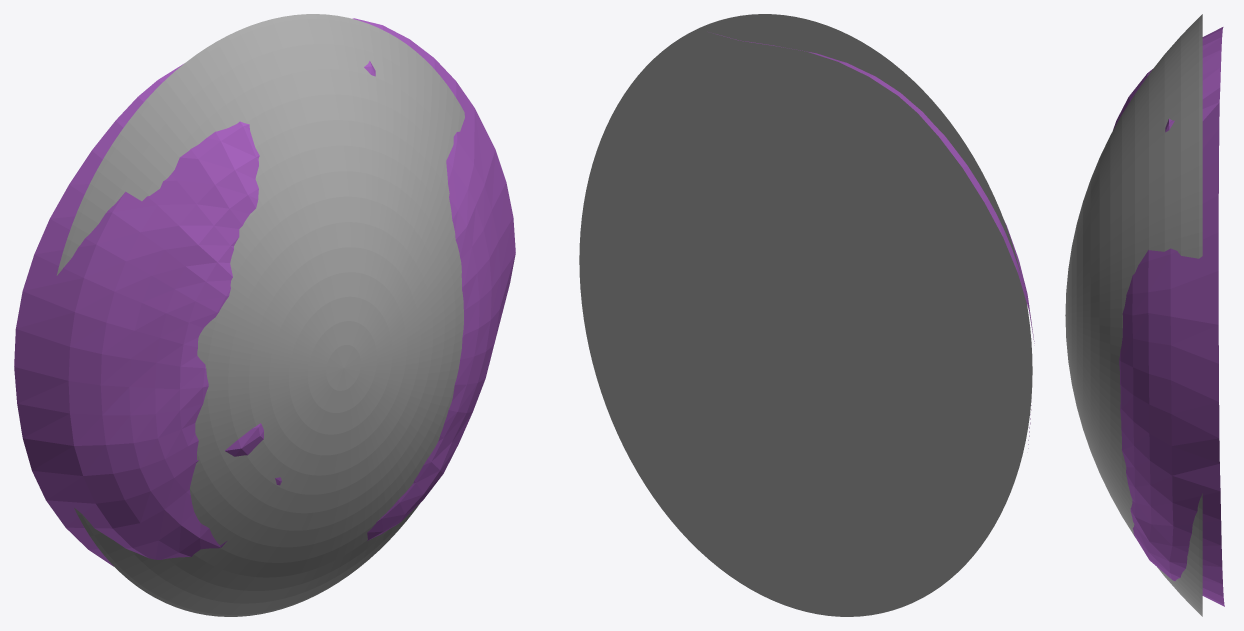
File: G04_A0_ALIGNED_GT.glb
3 renders of one model, left to right at view 1: azimuth 30°, elevation 25°; view 2: azimuth 150°, elevation 25°; view 3: azimuth 270°, elevation 25°, orthographic. The views are drawn at different scales.
Visible parts, largest first — view 1: Independent_GT, A0; view 2: Independent_GT, A0; view 3: Independent_GT, A0.
Part boxes in pixels (x1,y1,x2,y2): Independent_GT: (56,14,464,616); A0: (14,18,515,566); Independent_GT: (579,14,1032,616); A0: (713,33,1034,448); Independent_GT: (1065,14,1202,616); A0: (1113,27,1224,606).
Size of the model in its own units: 0.0057 by 0.0065 by 0.00171.
